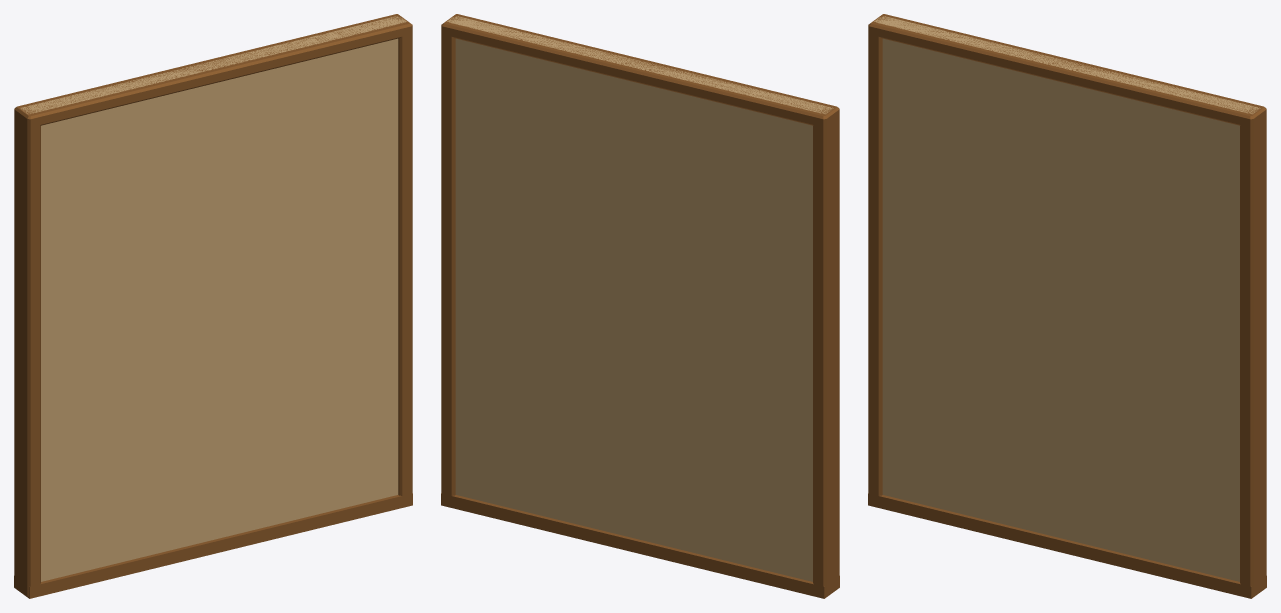
Rendered from wall_2m.glb.
The picture shows the model from 3 angles, left to right: view 1: azimuth 30°, elevation 25°; view 2: azimuth 150°, elevation 25°; view 3: azimuth 330°, elevation 25°; orthographic projection.
Parts seen in each view (by area): view 1: wall_2m; view 2: wall_2m; view 3: wall_2m.
Boxes of the visible parts, left/top/right/bottom form: wall_2m: left=14, top=14, right=412, bottom=598; wall_2m: left=441, top=14, right=839, bottom=598; wall_2m: left=868, top=14, right=1266, bottom=598.
Size of the model in its own units: 2.01 by 2.4 by 0.14.
